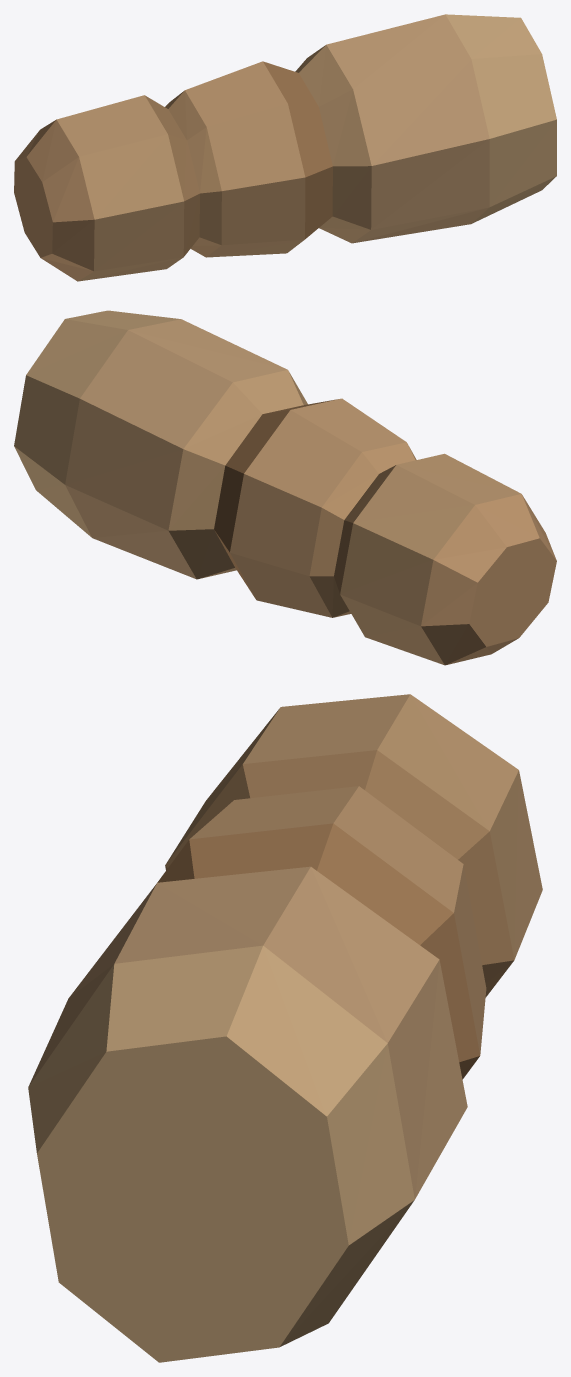
File: ruinenstadt_27.glb
3 views of the same model, one above another, from view 1: azimuth 30°, elevation 25°; view 2: azimuth 150°, elevation 25°; view 3: azimuth 270°, elevation 25° (orthographic). The views are drawn at different scales.
Parts seen in each view (by area): view 1: ruinenstadt_27; view 2: ruinenstadt_27; view 3: ruinenstadt_27.
Part boxes in pixels (bbox=[...]): ruinenstadt_27: bbox=[14, 14, 556, 281]; ruinenstadt_27: bbox=[14, 310, 556, 665]; ruinenstadt_27: bbox=[28, 694, 542, 1362].
Bounding box in the file's own units: 2 × 0.7989 × 0.9417.
